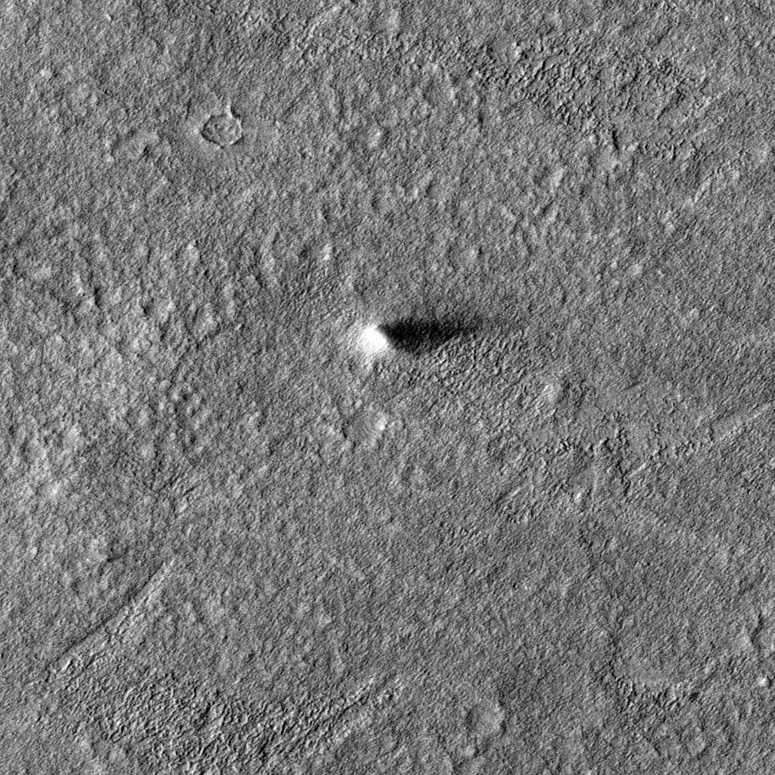dust_devil: (354, 312, 485, 363)
